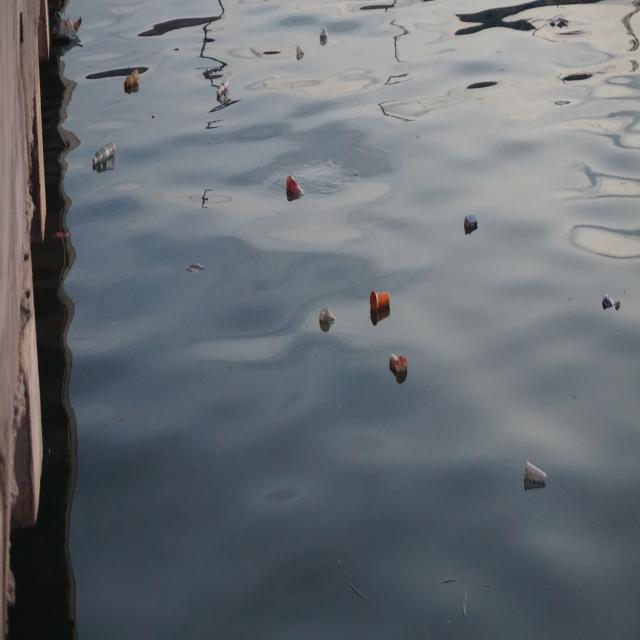Botol Plastik: (283, 171, 311, 208), (215, 75, 235, 109)
Bungkus Minuman: (522, 456, 552, 496), (89, 142, 121, 179), (370, 289, 392, 327), (391, 349, 411, 389)
